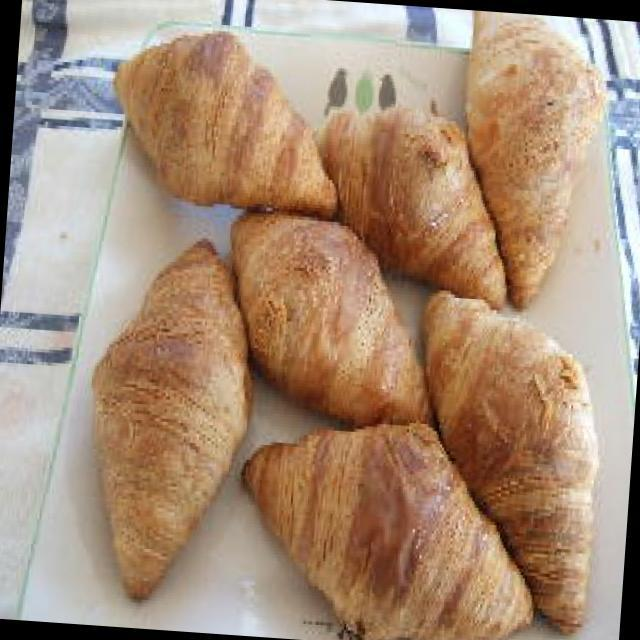Croissant: (246, 405, 538, 640), (81, 228, 263, 595), (110, 0, 357, 241)
